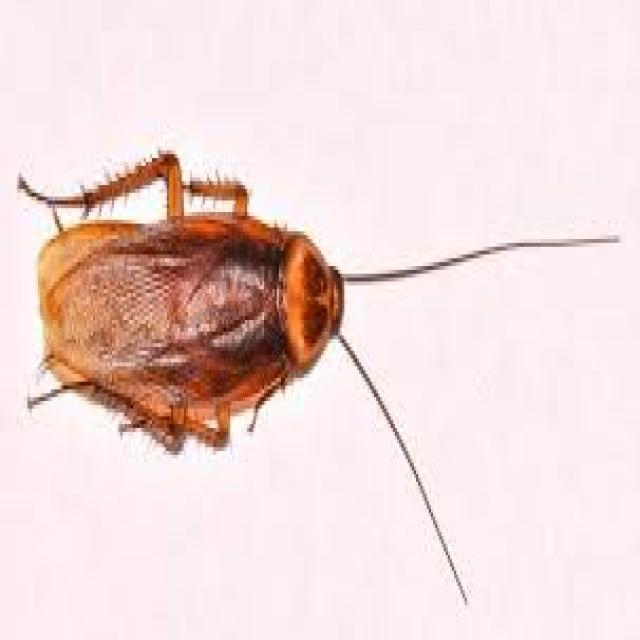Cockroach: (11, 143, 424, 455)
